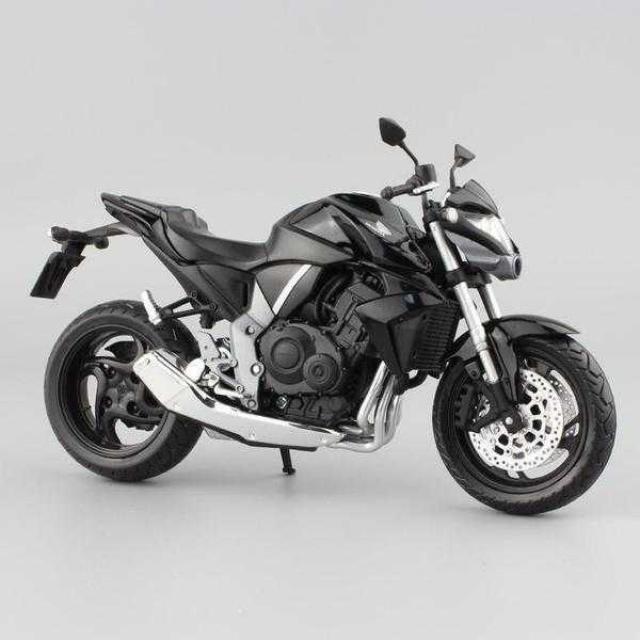Cycle: (21, 113, 623, 520)
